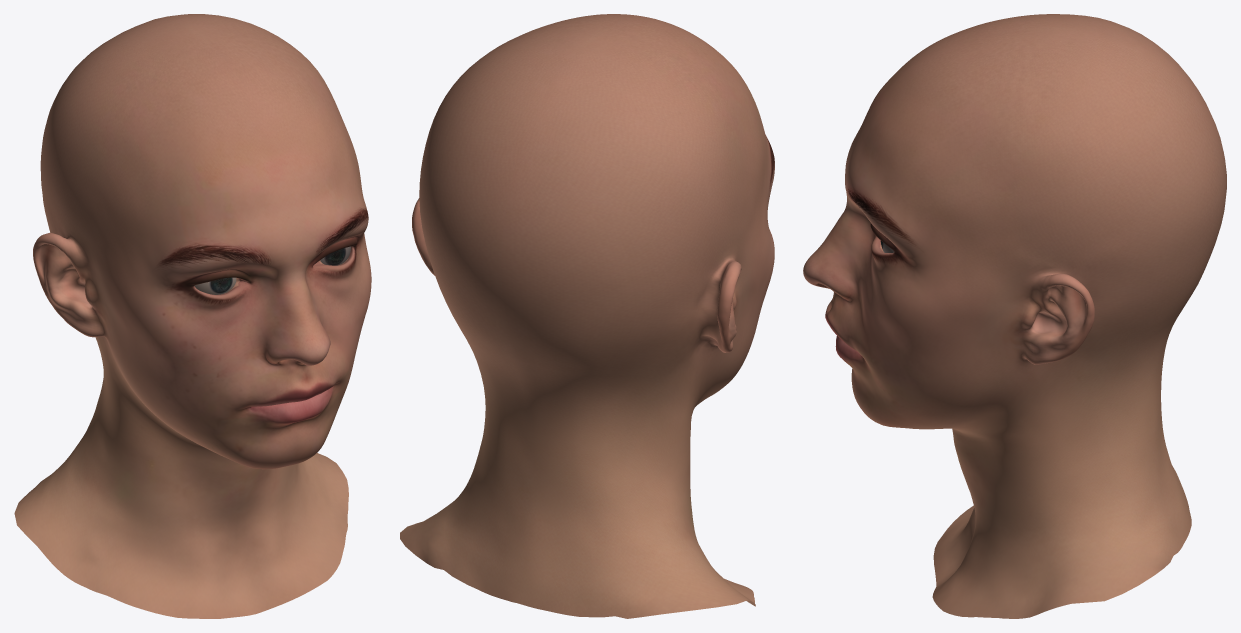
3 renders of one model, left to right at view 1: azimuth 30°, elevation 25°; view 2: azimuth 150°, elevation 25°; view 3: azimuth 270°, elevation 25°, orthographic. The views are drawn at different scales.
Visible parts, largest first — view 1: Registered head, right eye; view 2: Registered head; view 3: Registered head.
Boxes of the visible parts, x1=… form: Registered head: x1=14, y1=14, x2=371, y2=618; right eye: x1=194, y1=277, x2=236, y2=294; Registered head: x1=400, y1=14, x2=774, y2=618; Registered head: x1=803, y1=14, x2=1226, y2=618.
Size of the model in its own units: 1.15 by 1.9 by 1.31.
3 materials, 3 textured.
